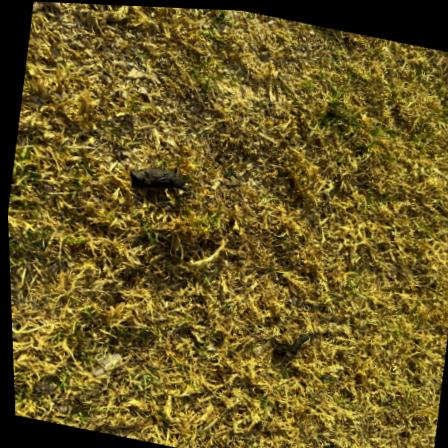dog-poop: (122, 157, 195, 196), (265, 327, 312, 359)
